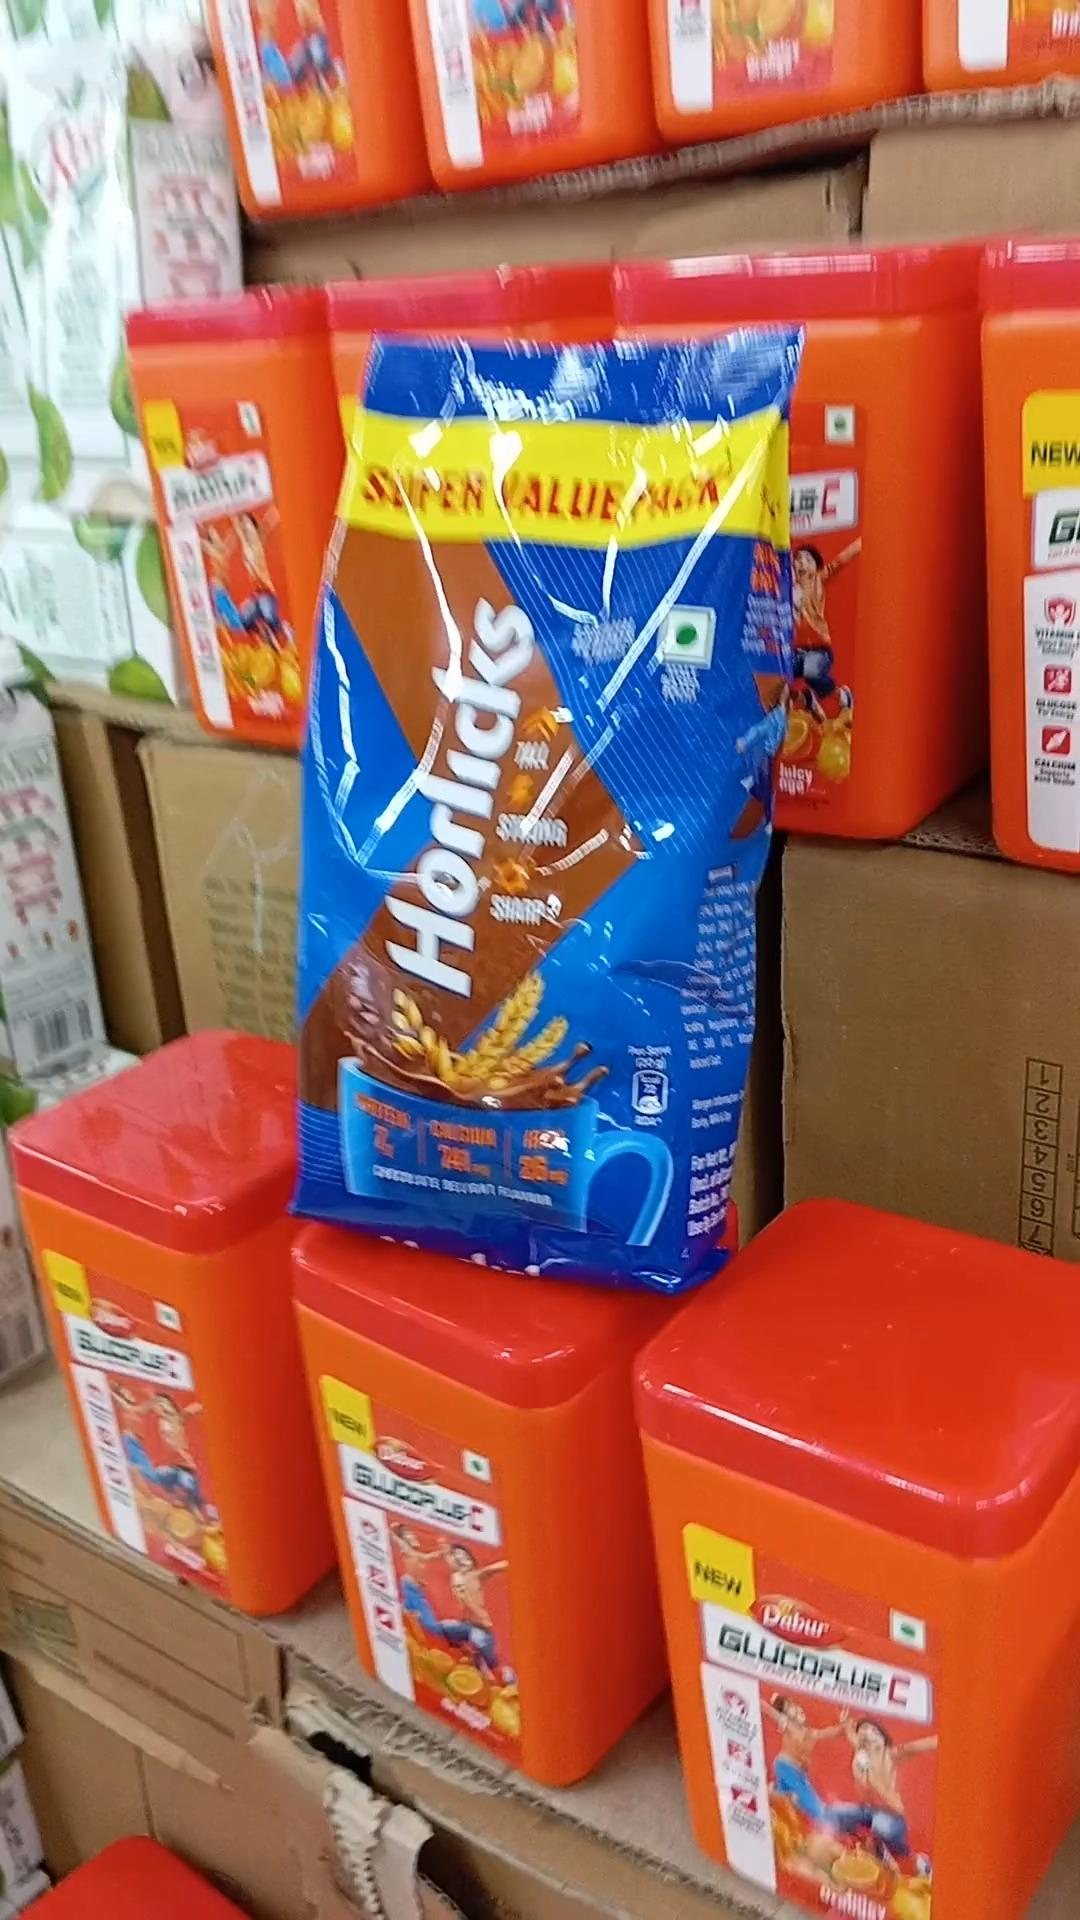HORLICK_CHOCOLATE_750_G_POUCH: (323, 365, 698, 1267)
